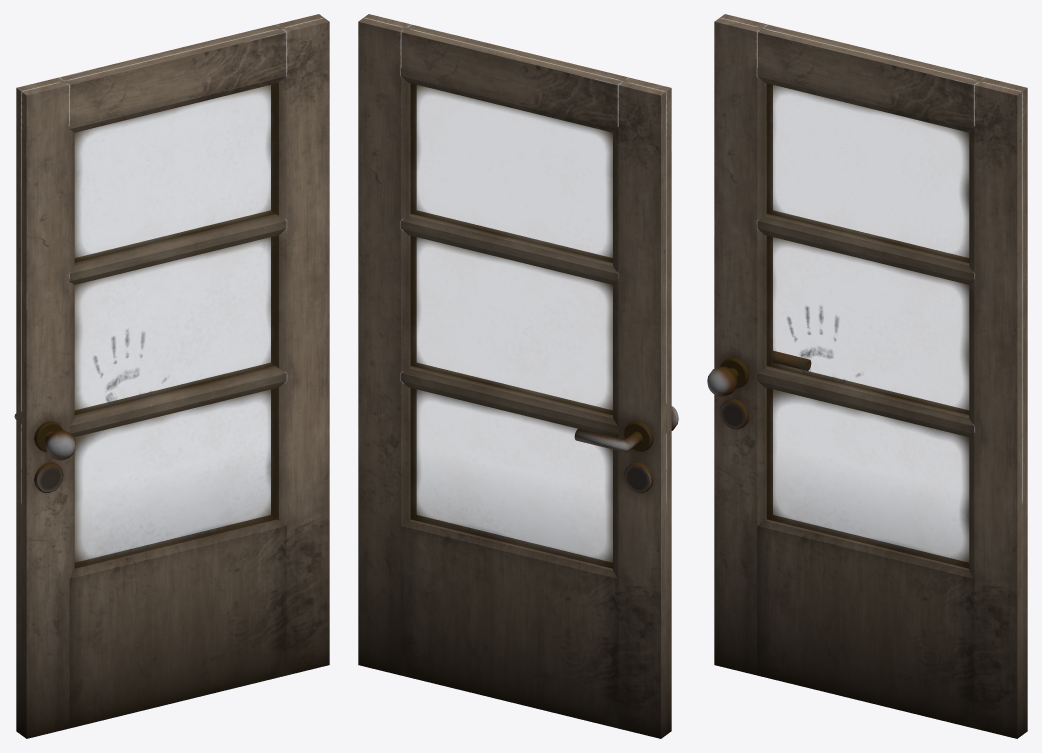
The model's file is weathered_wooden_door__gameready.glb.
3 views of the same model, side by side, from view 1: azimuth 30°, elevation 25°; view 2: azimuth 150°, elevation 25°; view 3: azimuth 330°, elevation 25° (orthographic).
Parts seen in each view (by area): view 1: WoodenDoor_LOW; view 2: WoodenDoor_LOW; view 3: WoodenDoor_LOW.
Boxes of the visible parts, left/top/right/bottom form: WoodenDoor_LOW: left=14, top=14, right=329, bottom=738; WoodenDoor_LOW: left=358, top=14, right=678, bottom=738; WoodenDoor_LOW: left=707, top=14, right=1027, bottom=738.
Size of the model in its own units: 1 by 2.03 by 0.2792.
Materials: 1 (1 with a texture image).
